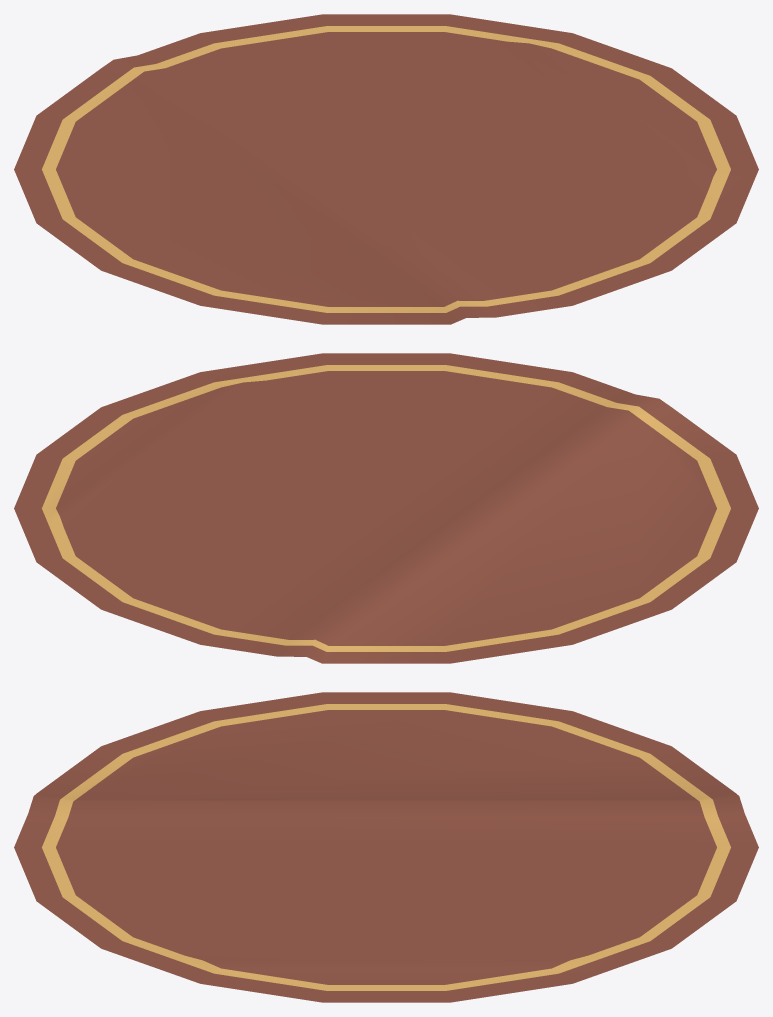
Rendered from carpet_round.glb.
3 views of the same model, one above another, from view 1: azimuth 30°, elevation 25°; view 2: azimuth 150°, elevation 25°; view 3: azimuth 270°, elevation 25° (orthographic).
Visible parts, largest first — view 1: Carpet_Round; view 2: Carpet_Round; view 3: Carpet_Round.
Part boxes in pixels (left/top/right/bottom): Carpet_Round: left=14, top=14, right=758, bottom=324; Carpet_Round: left=14, top=353, right=758, bottom=663; Carpet_Round: left=14, top=692, right=758, bottom=1002.
Size of the model in its own units: 2.49 by 0.0158 by 2.53.
